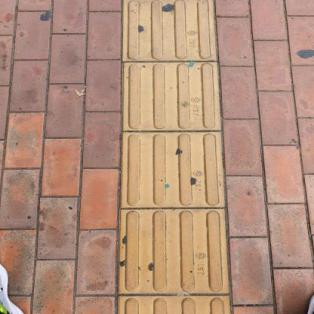Podoctatil: (109, 0, 239, 313)
